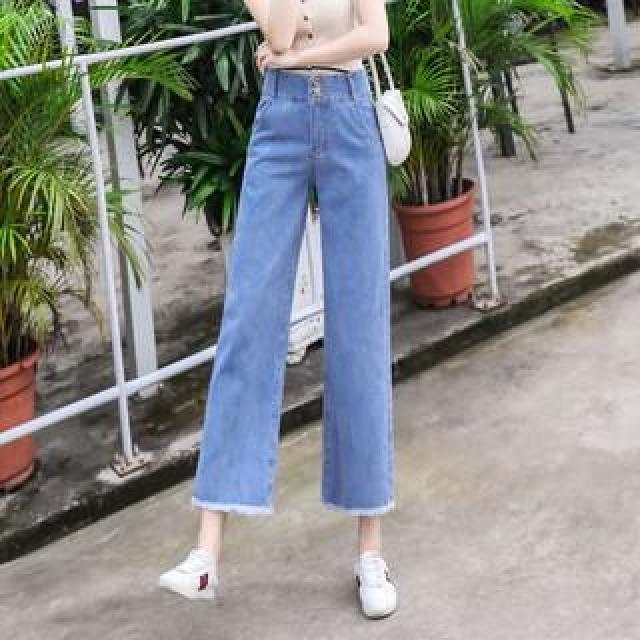pants: (197, 56, 403, 520)
